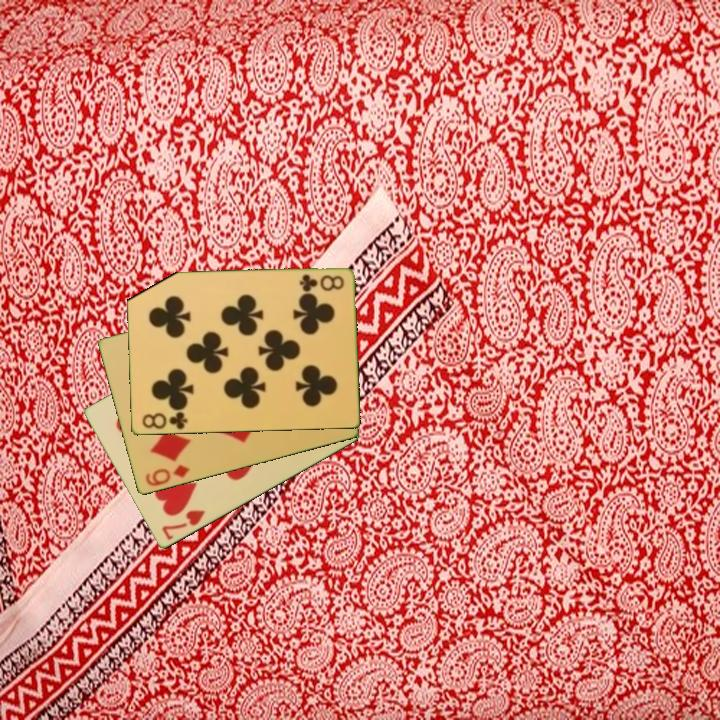6d: (142, 461, 192, 489)
7h: (158, 507, 208, 543)
8c: (139, 409, 190, 432), (295, 271, 346, 294)
